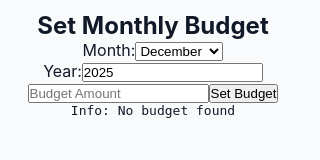
it: BudgetForm Component › should display error message when amount is invalid
Note: submit with invalid amount (0 or negative)
Type "0" into the number field with placeholder "Budget Amount" at (118, 94), box [28,84,208,103]
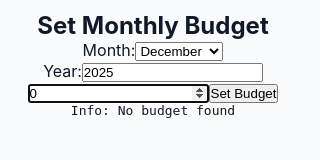
Click the button "Set Budget" at (244, 94), box [208,84,278,103]
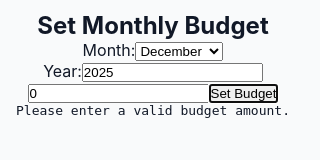
Now the text "Please enter a valid budget amount." is shown, box [16,103,290,118]
